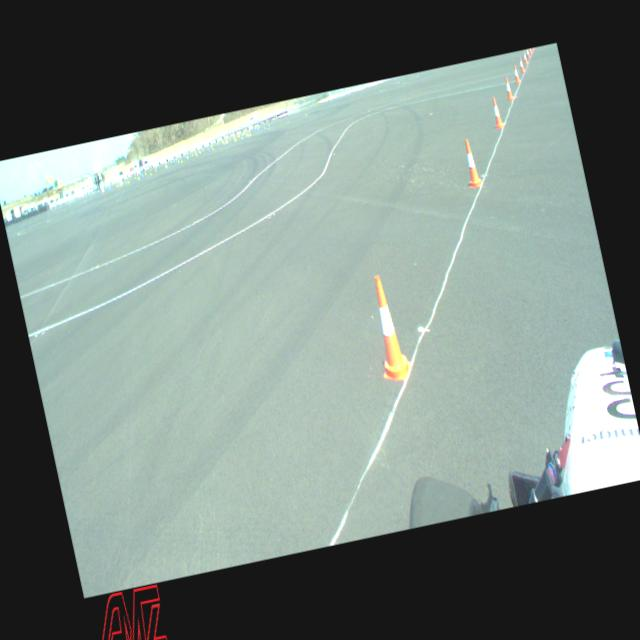orange_cone: (363, 272, 414, 384), (460, 137, 482, 187), (489, 95, 504, 129), (502, 77, 514, 101), (511, 64, 521, 84), (516, 56, 524, 72), (521, 50, 528, 63)
